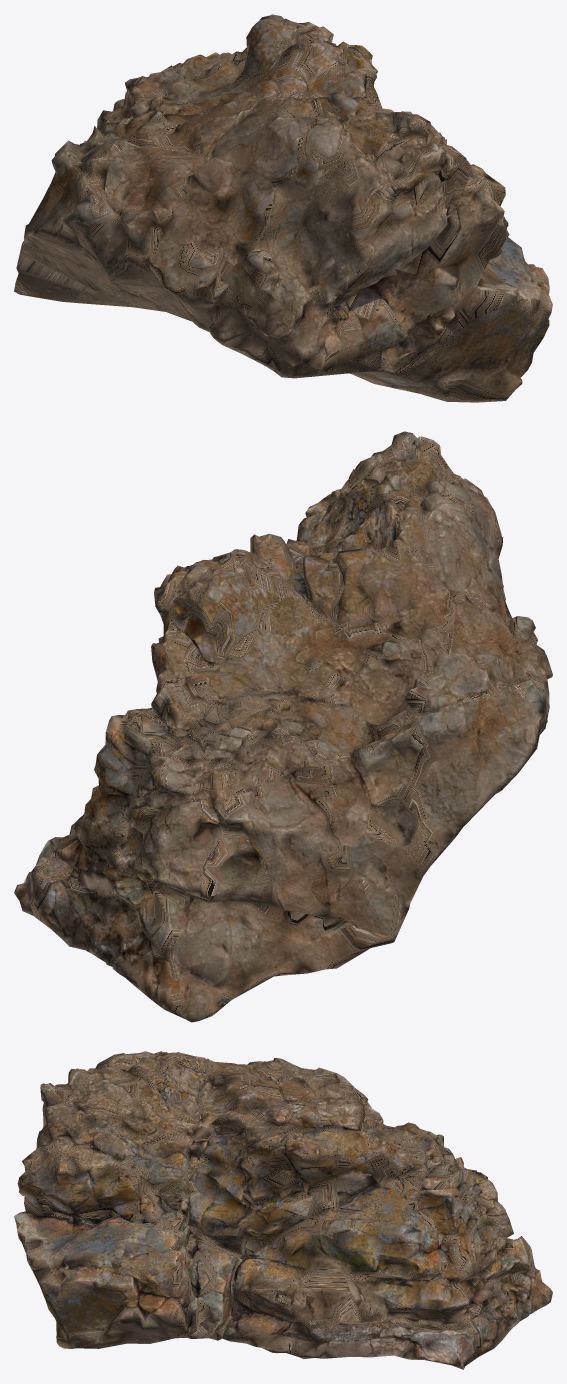
The model's file is boulder_01-near.glb.
The picture shows the model from 3 angles, top to bottom: view 1: azimuth 30°, elevation 25°; view 2: azimuth 150°, elevation 25°; view 3: azimuth 270°, elevation 25°; orthographic projection. The views are drawn at different scales.
Parts seen in each view (by area): view 1: boulder_01; view 2: boulder_01; view 3: boulder_01.
Part boxes in pixels (x1,y1,x2,y2): boulder_01: (14,14,552,402); boulder_01: (14,431,552,1022); boulder_01: (14,1051,552,1369).
Size of the model in its own units: 1.27 by 1 by 1.83.
Materials: 1 (1 with a texture image).
